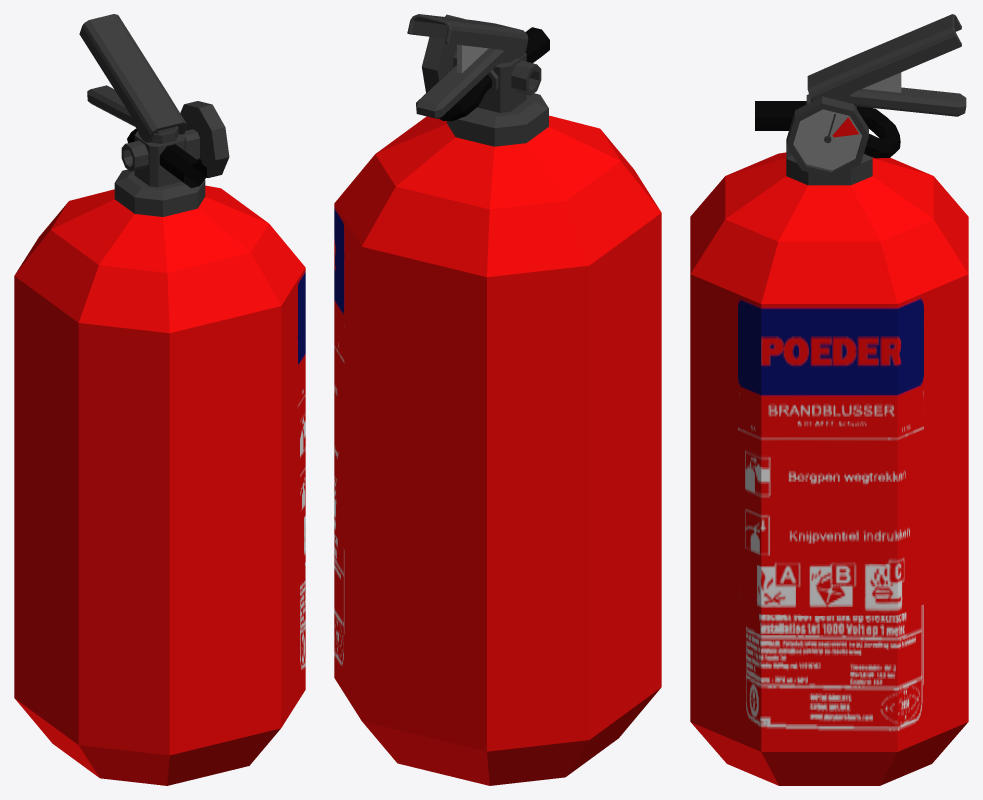
Rendered from poederblusser.fbx.
3 views of the same model, side by side, from view 1: azimuth 30°, elevation 25°; view 2: azimuth 150°, elevation 25°; view 3: azimuth 270°, elevation 25° (orthographic). The views are drawn at different scales.
Parts seen in each view (by area): view 1: Cube.001; view 2: Cube.001; view 3: Cube.001.
Part boxes in pixels (x1,y1,x2,y2): Cube.001: (14,14,305,785); Cube.001: (334,14,661,785); Cube.001: (690,14,968,785).
Size of the model in its own units: 470 by 1388 by 470.
5 materials, 1 textured.
